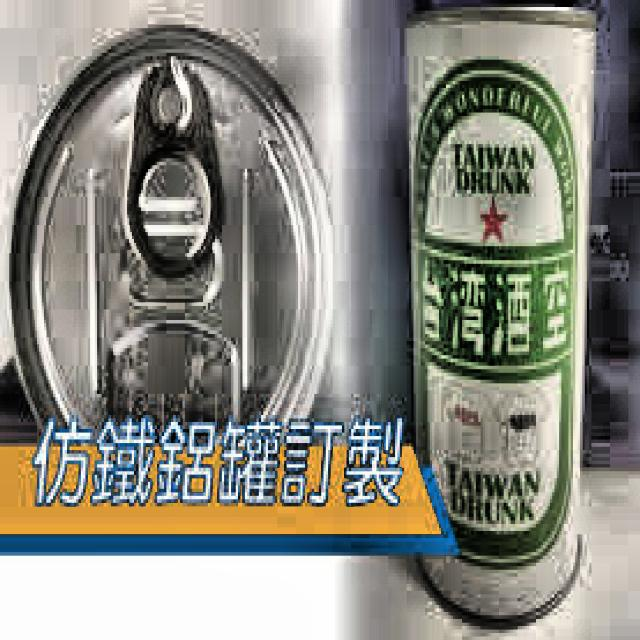can: (5, 18, 340, 452), (397, 0, 603, 633)
